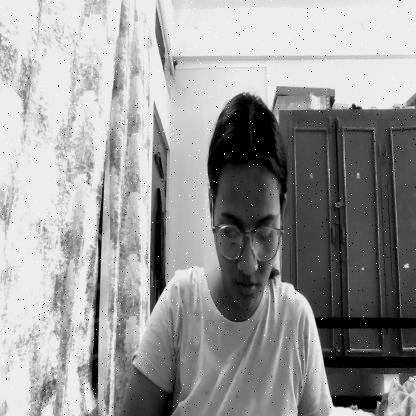Normal: (204, 104, 292, 320)
